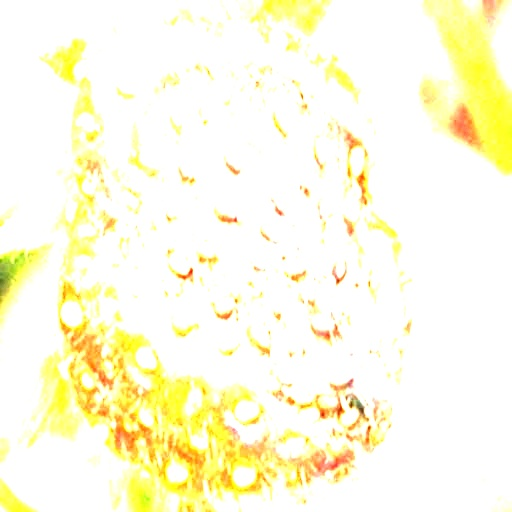Anthracnose Fruit Rot: (103, 37, 411, 480)
